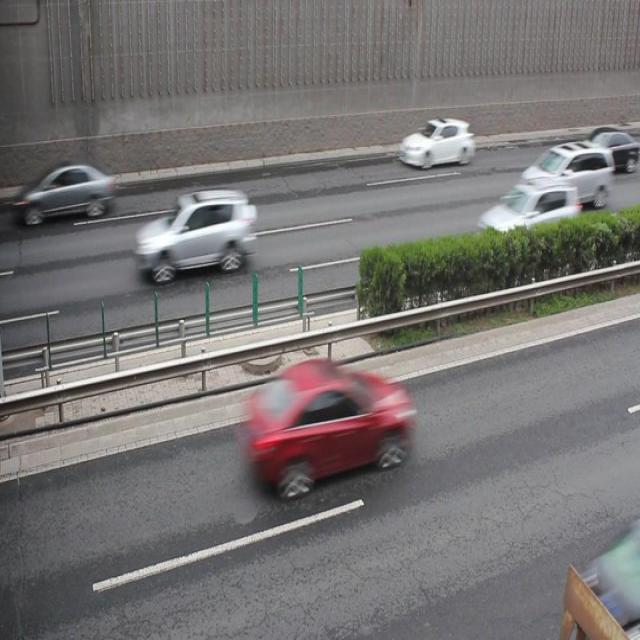car: (242, 356, 411, 494), (134, 186, 257, 283), (474, 176, 579, 252), (29, 158, 115, 224), (397, 114, 473, 169), (580, 126, 632, 173)
truck: (517, 138, 612, 208)
